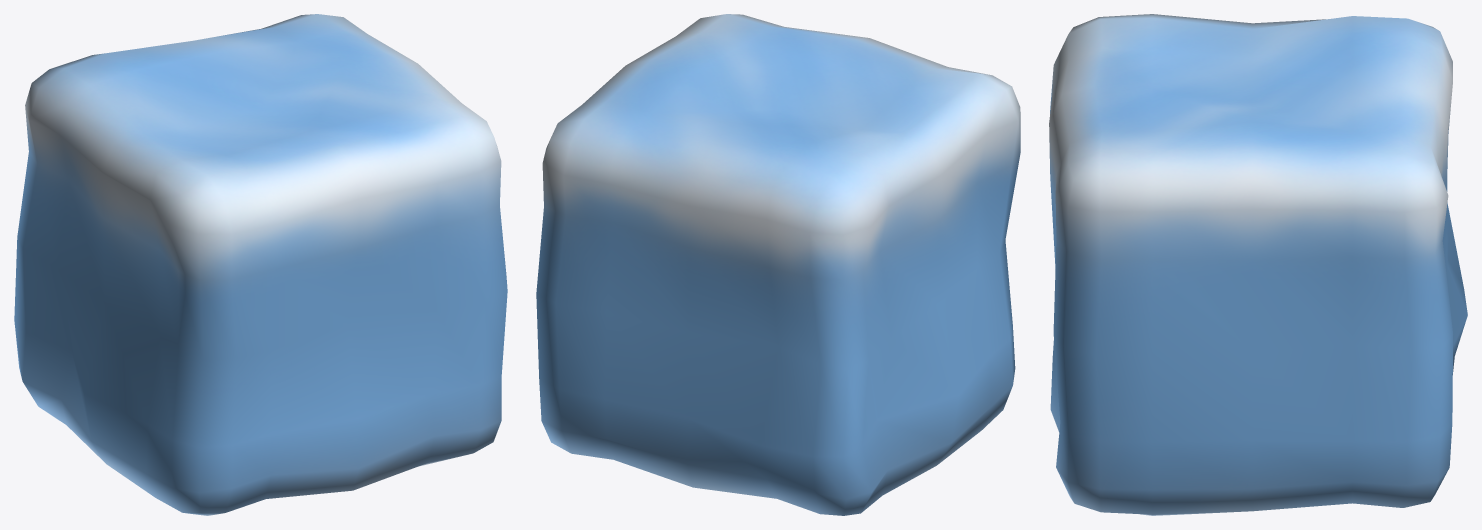
Rendered from ice_1.fbx.
The picture shows the model from 3 angles, left to right: view 1: azimuth 30°, elevation 25°; view 2: azimuth 150°, elevation 25°; view 3: azimuth 270°, elevation 25°; orthographic projection. The views are drawn at different scales.
Parts seen in each view (by area): view 1: ice_1; view 2: ice_1; view 3: ice_1.
Boxes of the visible parts, left/top/right/bottom form: ice_1: left=14, top=14, right=507, bottom=515; ice_1: left=536, top=14, right=1020, bottom=515; ice_1: left=1049, top=14, right=1467, bottom=515.
Bounding box in the file's own units: 1155 × 1116 × 1119.
